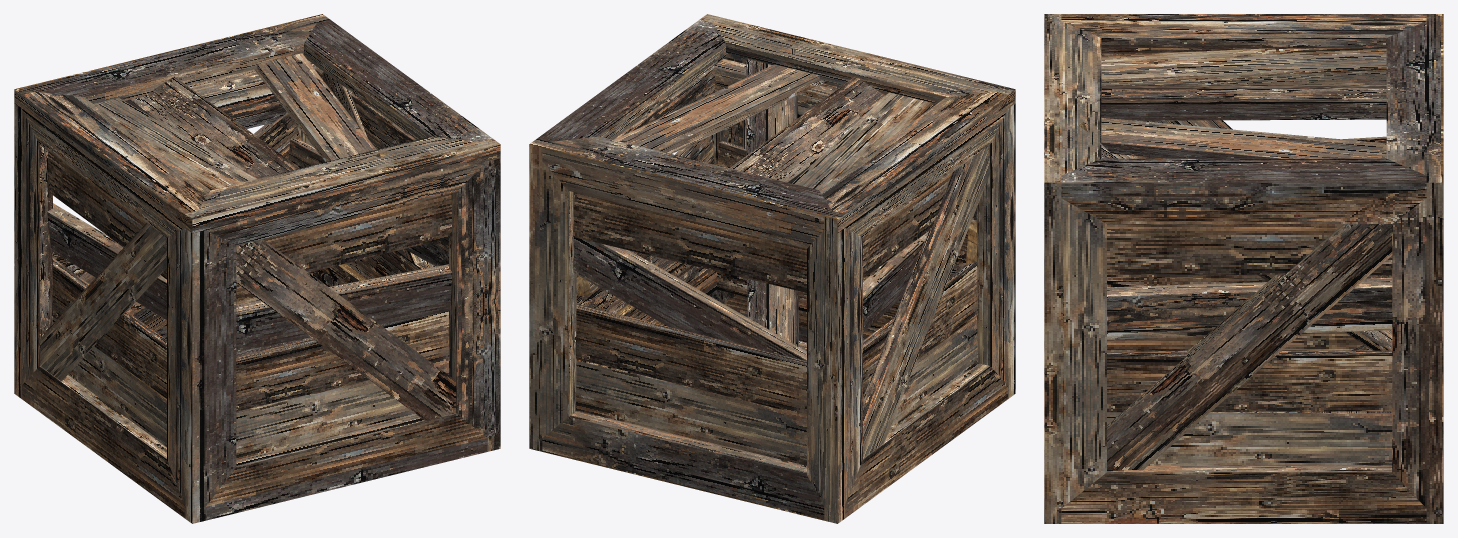
File: psx-inspired_low-poly_old_crate.glb
3 renders of one model, left to right at view 1: azimuth 30°, elevation 25°; view 2: azimuth 150°, elevation 25°; view 3: azimuth 270°, elevation 25°, orthographic. The views are drawn at different scales.
Visible parts, largest first — view 1: crate_24, crossing board_0, crossing board_13, crossing board_3, crossing board_14, crossing board_12, crossing board_21, crossing board_6, crossing board_19, crossing board_10, crossing board_4, crossing board_11 (+9 smaller); view 2: crate_24, crossing board_22, crossing board_8, crossing board_3, crossing board_7, crossing board_23, crossing board_19, crossing board_6, crossing board_5, crossing board_4, crossing board_11, crossing board_10 (+9 smaller); view 3: crate_24, crossing board_2, crossing board_17, crossing board_18, crossing board_15, crossing board_16, crossing board_4, crossing board_19, crossing board_20, crossing board_6, crossing board_11, crossing board_5 (+1 smaller).
Boxes of the visible parts, x1,y1,x2,y2 form: crate_24: (14,14,500,523); crossing board_0: (236,239,456,420); crossing board_13: (236,311,449,411); crossing board_3: (40,223,166,381); crossing board_14: (236,361,449,459); crossing board_12: (236,193,452,290); crossing board_21: (236,264,452,351); crossing board_6: (124,76,299,178); crossing board_19: (254,53,376,161); crossing board_10: (52,258,166,398); crossing board_4: (93,98,256,189); crossing board_11: (52,317,166,446); crate_24: (529,14,1015,523); crossing board_22: (576,304,806,415); crossing board_8: (576,360,806,465); crossing board_3: (863,145,989,458); crossing board_7: (573,192,806,292); crossing board_23: (573,237,806,360); crossing board_19: (614,64,825,154); crossing board_6: (730,76,884,183); crossing board_5: (746,48,798,403); crossing board_4: (792,92,933,189); crossing board_11: (890,316,977,426); crossing board_10: (863,260,977,397); crate_24: (1044,14,1443,523); crossing board_2: (1107,224,1392,469); crossing board_17: (1107,350,1392,412); crossing board_18: (1107,412,1392,465); crossing board_15: (1107,224,1392,275); crossing board_16: (1107,277,1392,339); crossing board_4: (1101,48,1386,85); crossing board_19: (1101,117,1386,158); crossing board_20: (1101,78,1386,120); crossing board_6: (1101,85,1386,100); crossing board_11: (1107,274,1372,287); crossing board_5: (1079,121,1392,350).
Size of the model in its own units: 1.09 by 1.04 by 1.09.
1 material, 1 textured.
